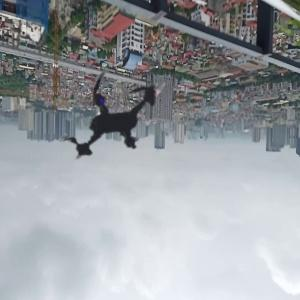drone: (13, 20, 217, 224)
